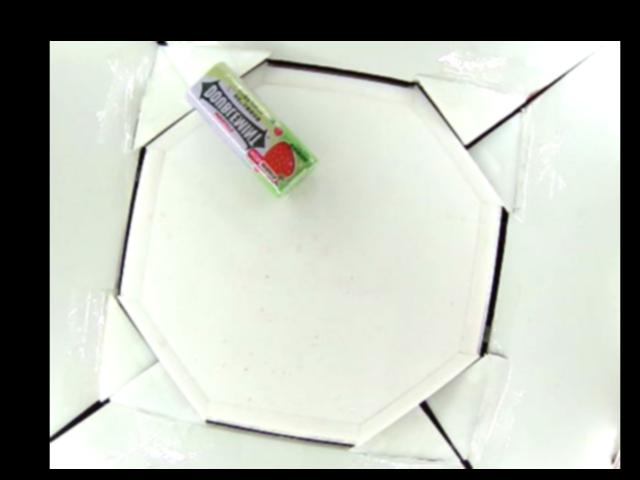Bottle: (184, 62, 314, 195)
